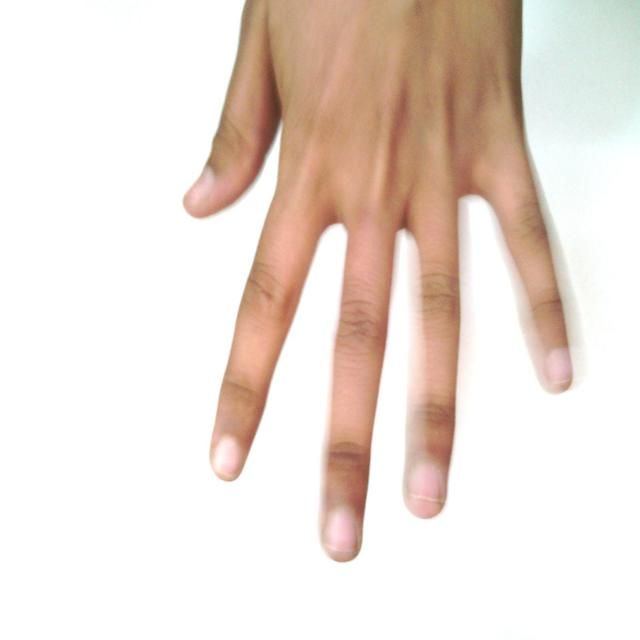others: (172, 1, 584, 588)
